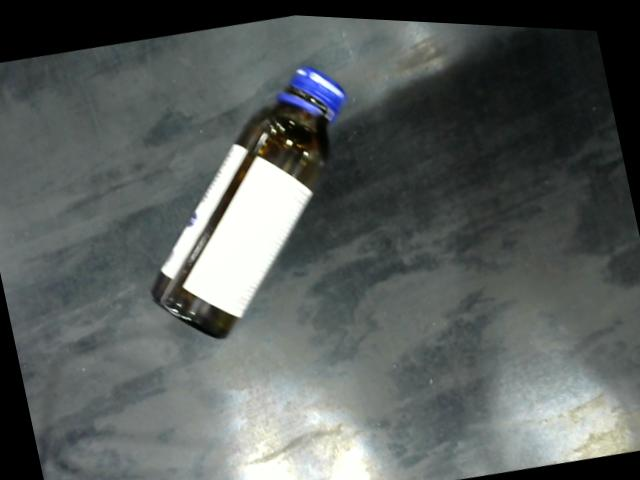glass: (151, 55, 349, 341)
